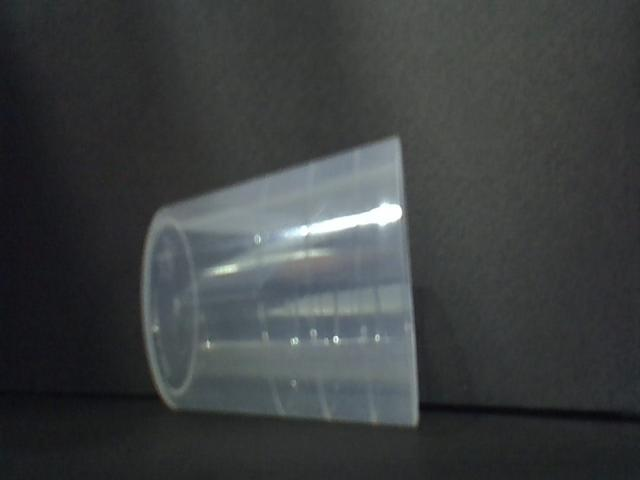cup: (137, 141, 421, 427)
